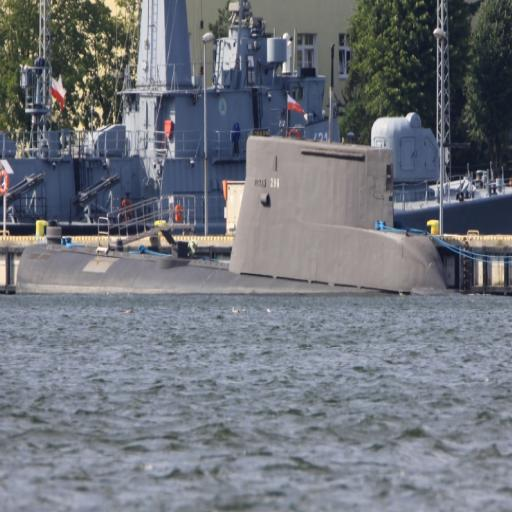submarine: (14, 115, 472, 301)
